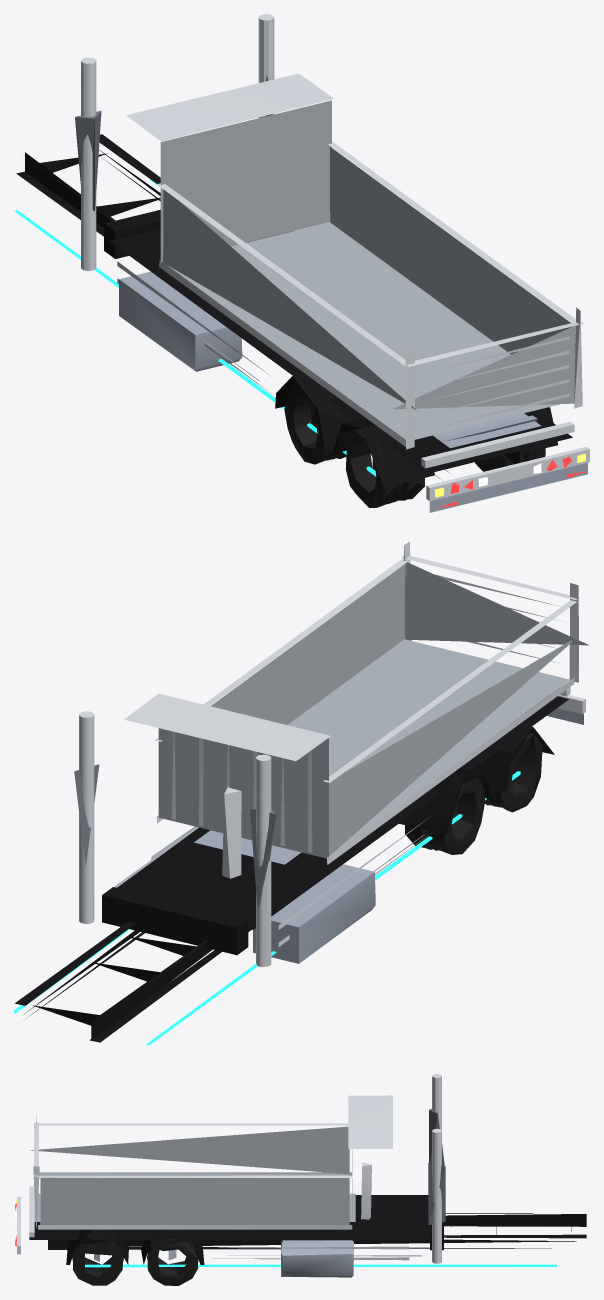
File: body_dump_lod2.glb
3 renders of one model, top to bottom at view 1: azimuth 30°, elevation 25°; view 2: azimuth 150°, elevation 25°; view 3: azimuth 270°, elevation 25°, orthographic. The views are drawn at different scales.
Parts seen in each view (by area): view 1: lod2_dump_bed, lod2_chrome, lod2frame_plastic_black, lod2frame_steel, lod2_rubber_tire, lod2frame_chrome, lod2_steel, lod2frame_mesh_perf, lod2frame_lamp_cyan; view 2: lod2_dump_bed, lod2frame_plastic_black, lod2_chrome, lod2frame_steel, lod2frame_chrome, lod2_rubber_tire, lod2frame_mesh_perf, lod2_steel, lod2frame_lamp_cyan; view 3: lod2_dump_bed, lod2frame_plastic_black, lod2_chrome, lod2_rubber_tire, lod2frame_steel, lod2frame_chrome, lod2frame_lamp_cyan, lod2frame_mesh_perf, lod2_steel.
Boxes of the visible parts, x1,y1,x2,y2 form: lod2_dump_bed: (160,100,576,439); lod2_chrome: (117,73,589,501); lod2frame_plastic_black: (16,134,572,487); lod2frame_steel: (119,271,260,381); lod2_rubber_tire: (284,385,545,507); lod2frame_chrome: (81,14,274,270); lod2_steel: (429,413,587,512); lod2frame_mesh_perf: (75,74,272,211); lod2frame_lamp_cyan: (14,179,376,476); lod2_dump_bed: (158,562,588,858); lod2frame_plastic_black: (14,695,568,1042); lod2_chrome: (115,541,585,946); lod2frame_steel: (151,826,424,963); lod2frame_chrome: (79,711,271,966); lod2_rubber_tire: (405,732,542,854); lod2frame_mesh_perf: (74,764,276,907); lod2_steel: (194,708,583,864); lod2frame_lamp_cyan: (14,771,520,1045); lod2_dump_bed: (30,1126,349,1224); lod2frame_plastic_black: (29,1195,586,1264); lod2_chrome: (17,1095,409,1260); lod2_rubber_tire: (72,1239,198,1285); lod2frame_steel: (94,1240,421,1277); lod2frame_chrome: (432,1074,441,1263); lod2frame_lamp_cyan: (85,1264,556,1267); lod2frame_mesh_perf: (428,1108,445,1224); lod2_steel: (34,1193,355,1221).
Size of the model in its own units: 2.89 by 3.52 by 11.55.
Materials: 10 (2 with a texture image).
